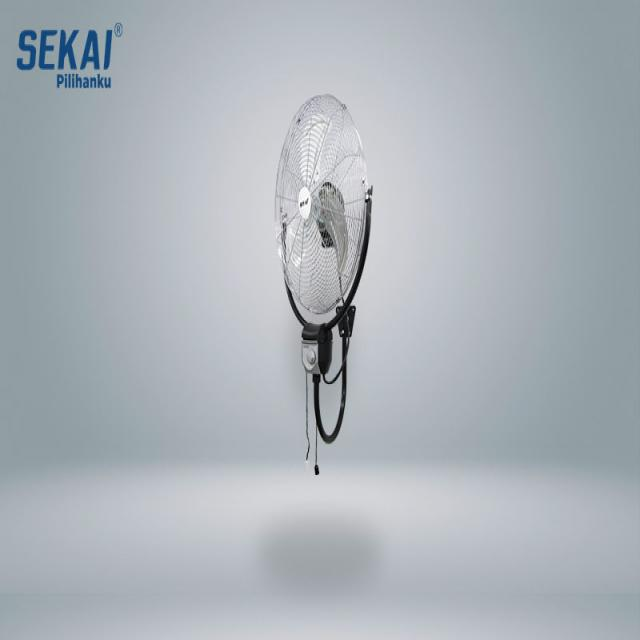fan: (258, 78, 378, 486)
